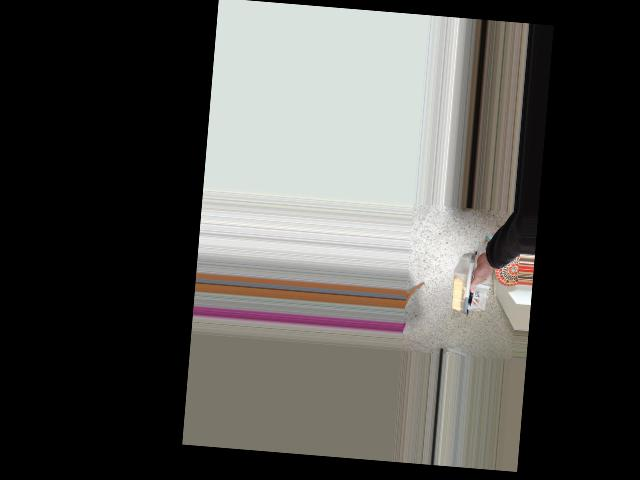cheese: (434, 237, 507, 312)
